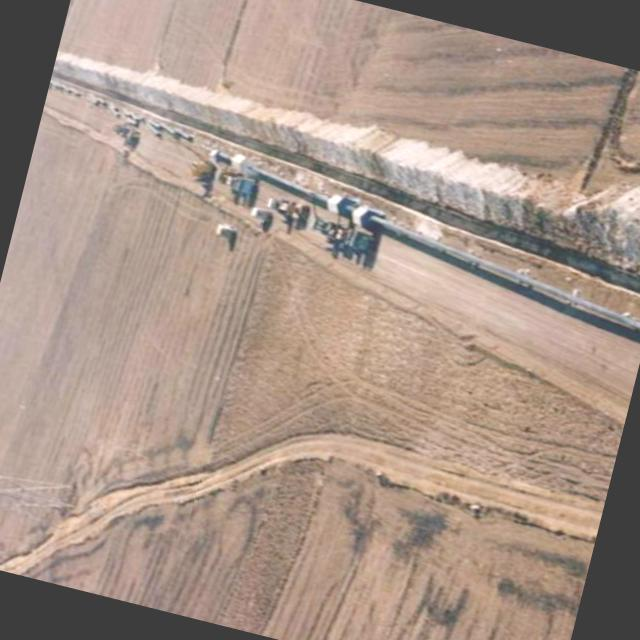gas: (245, 160, 640, 330)
